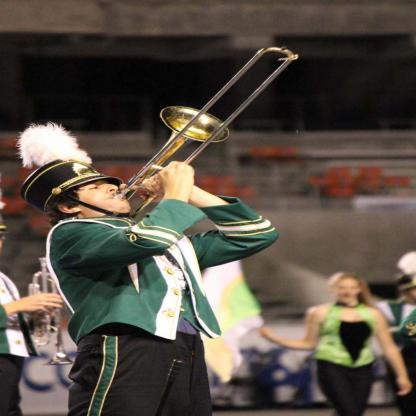face: (67, 177, 131, 216), (335, 279, 364, 303)
